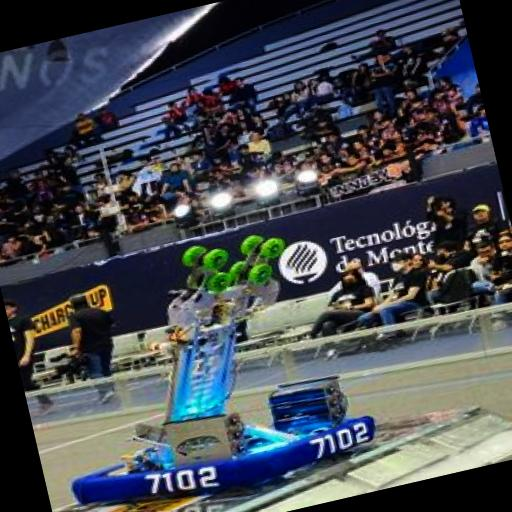robot: (21, 205, 388, 512)
